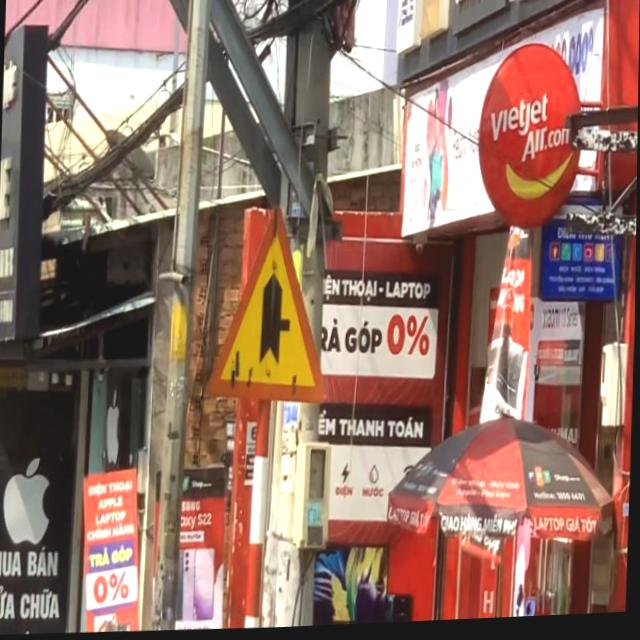Giao nhau voi duong khong uu tien ben phai: (200, 190, 340, 419)
